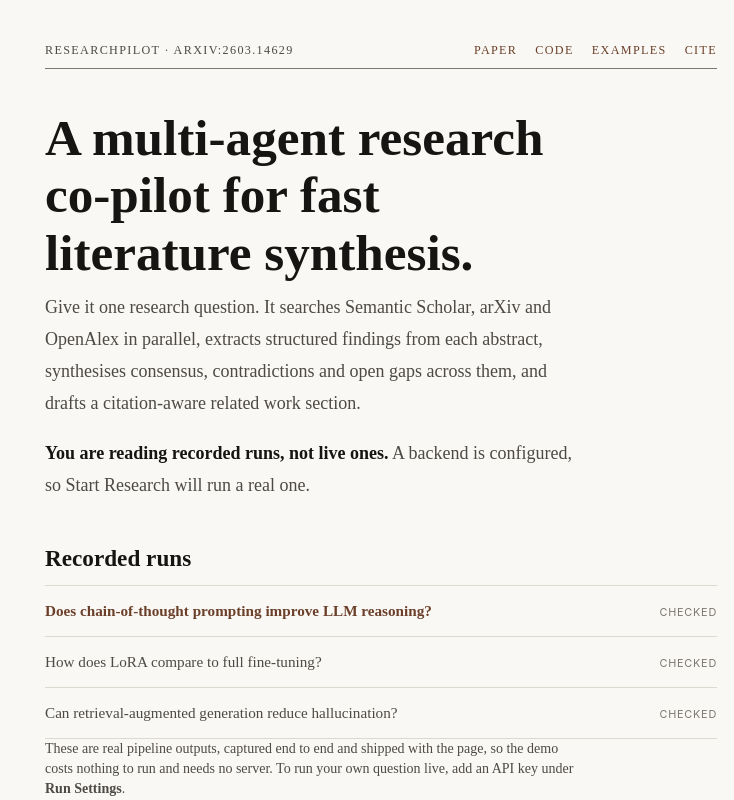
Test: what the run strip claims about itself › reports the prose citation count for lora-vs-finetuning
The image size is (734, 800).
Click the button "How does LoRA compare to full fine-tuning?".
click(183, 661)  # box x1=45 y1=637 x2=644 y2=687
(page scrolled)
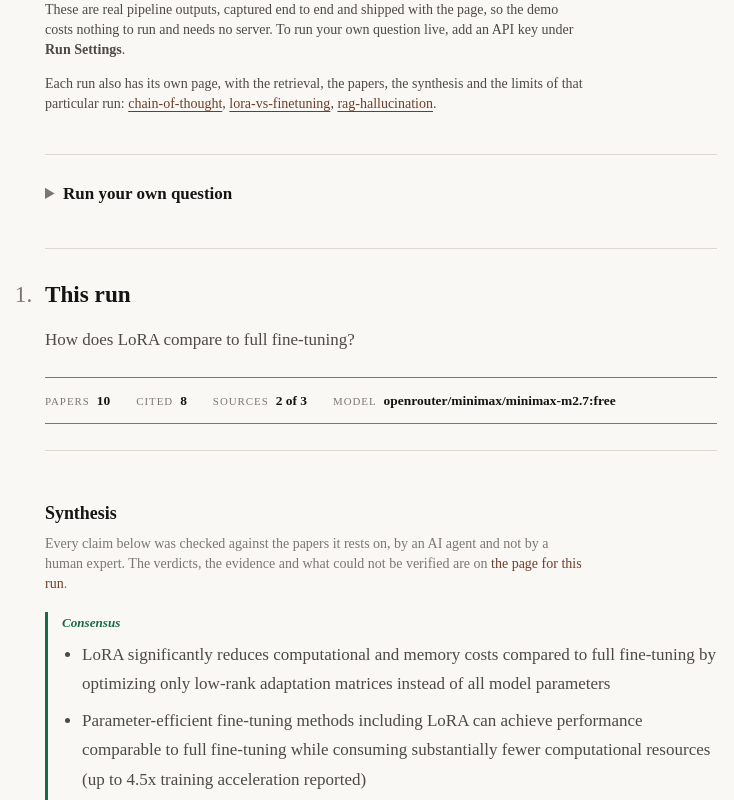
Check: the text "8" is shown, box x1=180 y1=388 x2=187 y2=412
